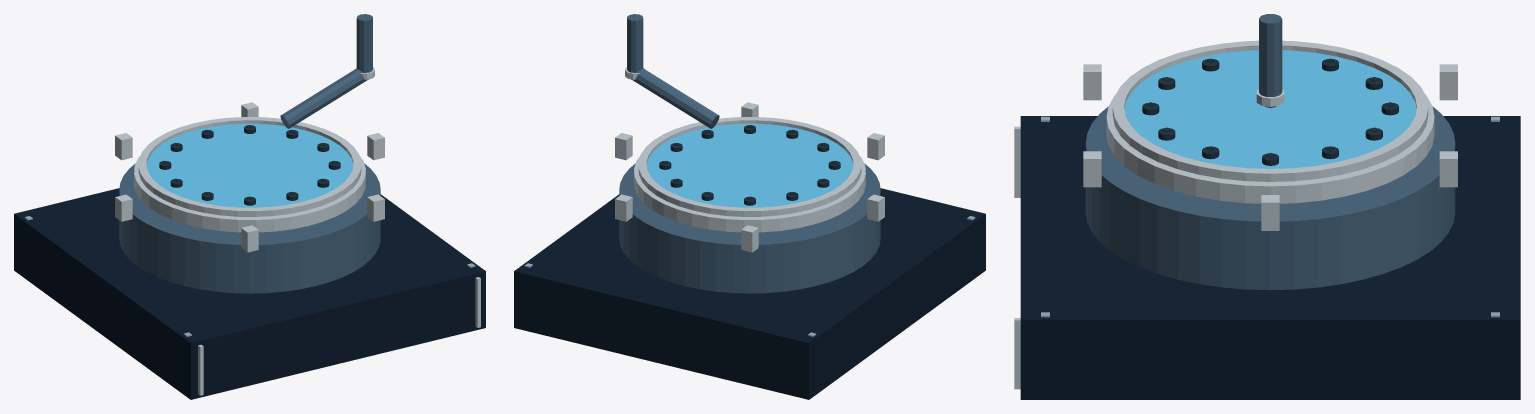
File: 42_L73_SpinRinseDryer.fbx
The picture shows the model from 3 angles, left to right: view 1: azimuth 30°, elevation 25°; view 2: azimuth 150°, elevation 25°; view 3: azimuth 270°, elevation 25°; orthographic projection. The views are drawn at different scales.
Parts seen in each view (by area): view 1: SpinRinseDryer, SpinRinseDryer_Part_0008, SpinRinseDryer_Part_0009, SpinRinseDryer_Part_0010; view 2: SpinRinseDryer, SpinRinseDryer_Part_0008, SpinRinseDryer_Part_0009, SpinRinseDryer_Part_0010; view 3: SpinRinseDryer, SpinRinseDryer_Part_0008, SpinRinseDryer_Part_0009, SpinRinseDryer_Part_0010.
Part boxes in pixels (bbox=[...]): SpinRinseDryer: bbox=[14, 14, 485, 399]; SpinRinseDryer_Part_0008: bbox=[146, 123, 353, 207]; SpinRinseDryer_Part_0009: bbox=[138, 117, 361, 216]; SpinRinseDryer_Part_0010: bbox=[134, 155, 365, 232]; SpinRinseDryer: bbox=[514, 14, 985, 399]; SpinRinseDryer_Part_0008: bbox=[646, 123, 853, 207]; SpinRinseDryer_Part_0009: bbox=[638, 117, 861, 216]; SpinRinseDryer_Part_0010: bbox=[634, 155, 865, 232]; SpinRinseDryer: bbox=[1014, 14, 1520, 399]; SpinRinseDryer_Part_0008: bbox=[1124, 50, 1416, 168]; SpinRinseDryer_Part_0009: bbox=[1112, 40, 1428, 181]; SpinRinseDryer_Part_0010: bbox=[1106, 94, 1434, 203].
Bounding box in the file's own units: 185 × 152 × 194.
